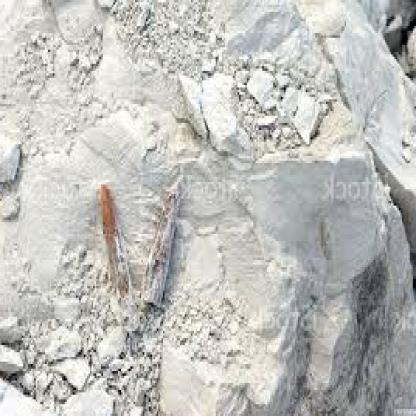Sedimentary_Chalk: (183, 137, 415, 414), (186, 66, 242, 137), (281, 71, 337, 125), (1, 371, 58, 414), (62, 376, 123, 414), (2, 126, 23, 184)
